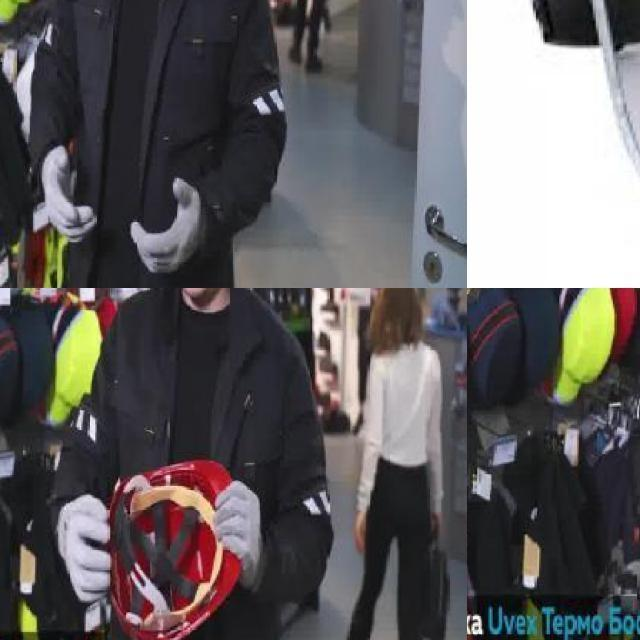apron: (128, 170, 206, 284), (57, 496, 113, 607), (40, 142, 96, 248), (212, 481, 264, 589)
